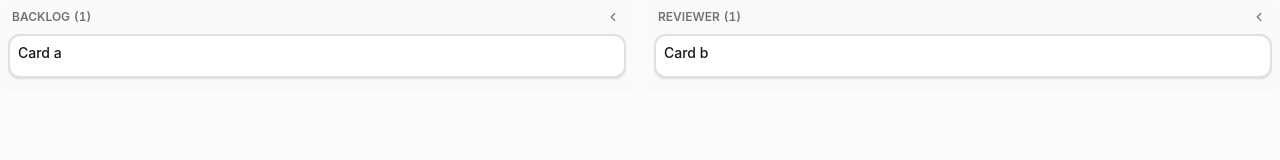
Board lane collapsing › keeps the card count visible on a collapsed rail
Step 1. Click the button with test id "kanban-column-collapse-reviewer" → [1259, 17], box top-left (1250, 8), bottom-right (1268, 26)
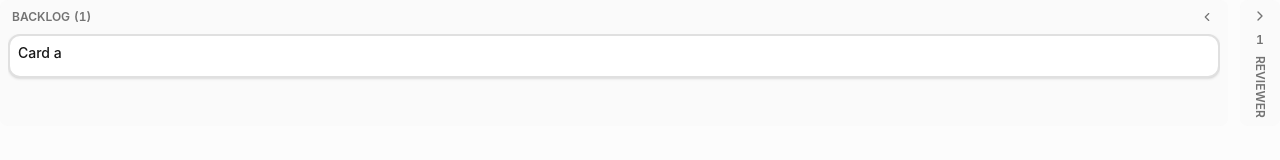
Check: the button with test id "kanban-column-expand-reviewer" shows "1", box top-left (1248, 8), bottom-right (1272, 118)
Check: the button with test id "kanban-column-expand-reviewer" shows "reviewer", box top-left (1248, 8), bottom-right (1272, 118)
